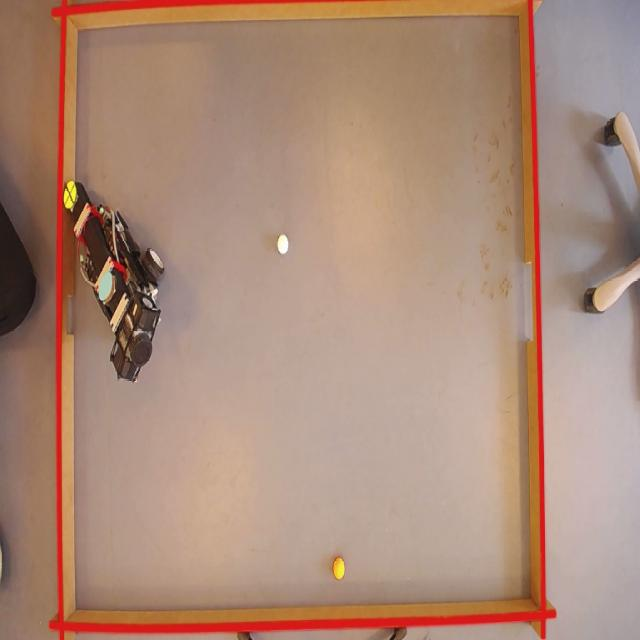orange: (332, 559, 347, 581)
robot: (61, 177, 167, 378)
robot-front: (64, 180, 77, 208)
robot-rear: (98, 272, 112, 299)
white: (275, 234, 289, 254)
